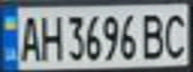3: (63, 11, 84, 62)
6: (118, 10, 142, 61), (81, 11, 103, 62)
9: (100, 10, 121, 62)
A: (15, 11, 42, 62)
B: (139, 9, 169, 61)
C: (160, 8, 190, 60)
H: (36, 10, 63, 62)
